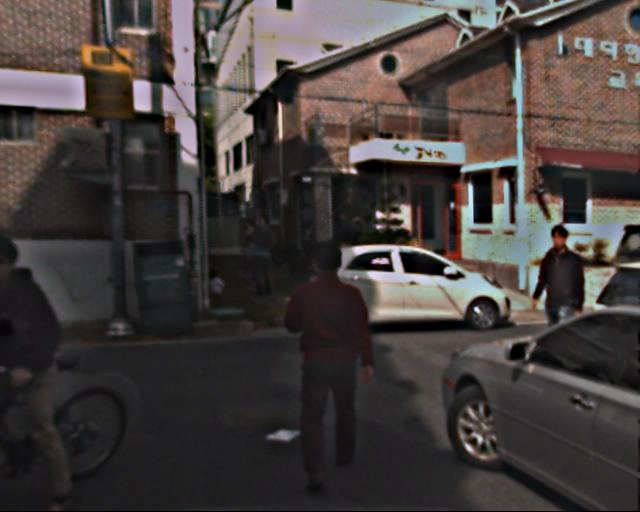person: (279, 237, 377, 489), (526, 227, 599, 398), (246, 213, 283, 299), (234, 216, 263, 278), (210, 264, 227, 309)
